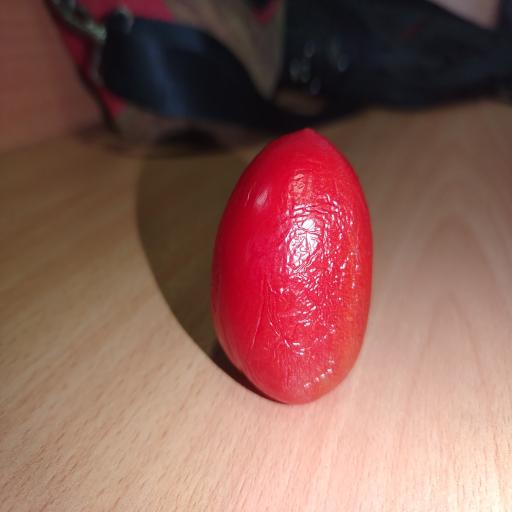spoiled: (211, 130, 372, 403)
